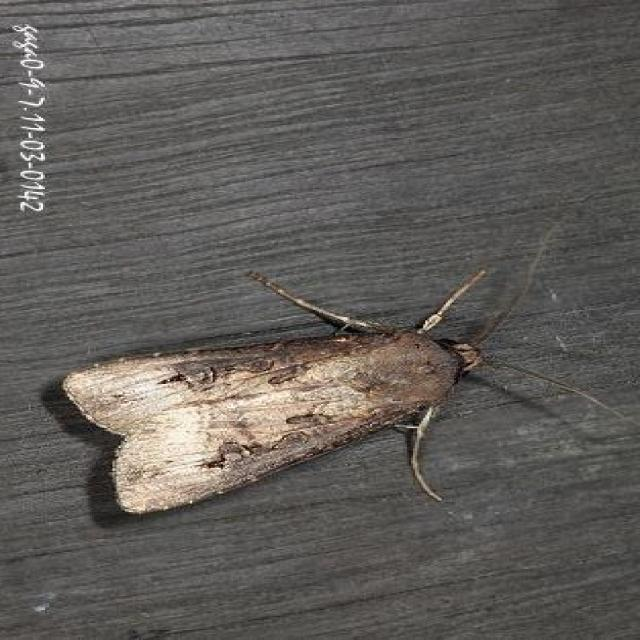black cutworm: (60, 300, 486, 558)
